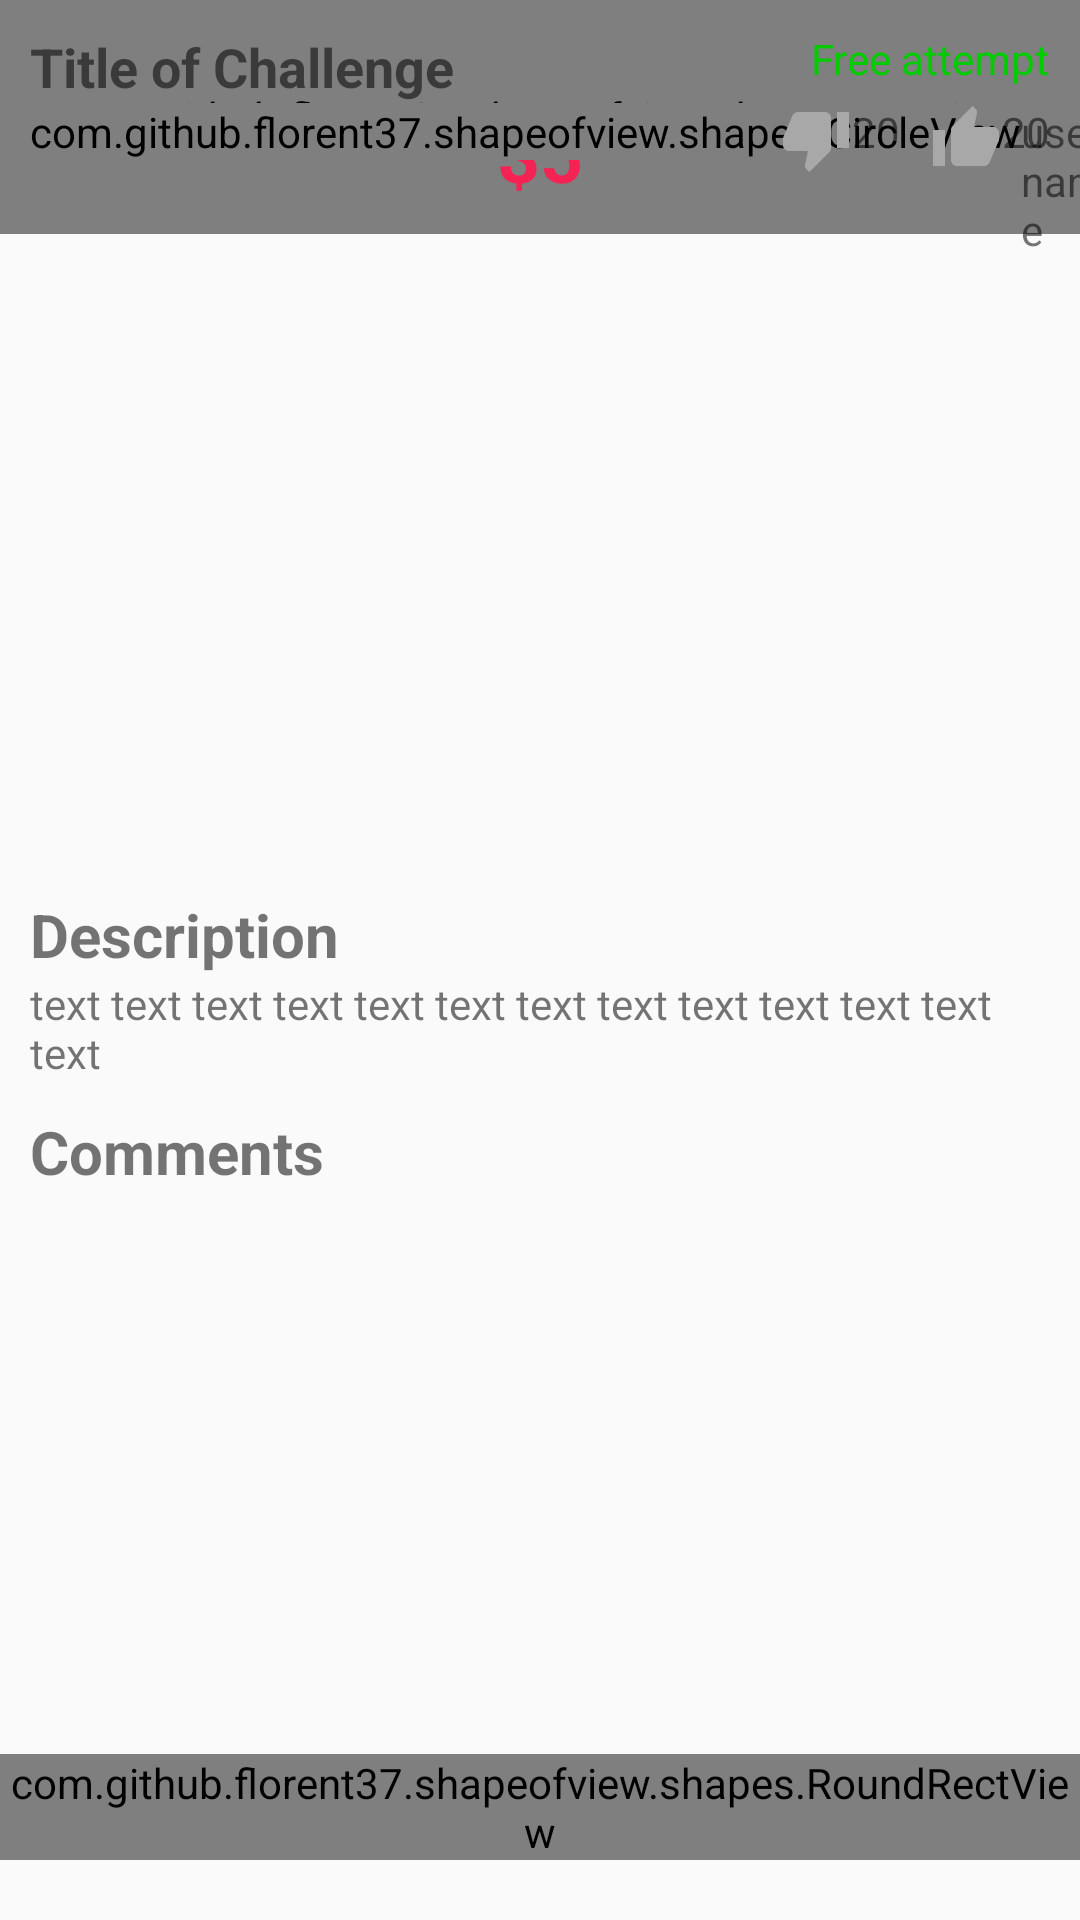

Icons on this 1080px x 1920px Android screen, each with its box as (x1, y1, x2, y2):
thumb down: (780, 112, 851, 172)
thumb up: (931, 106, 1002, 166)
